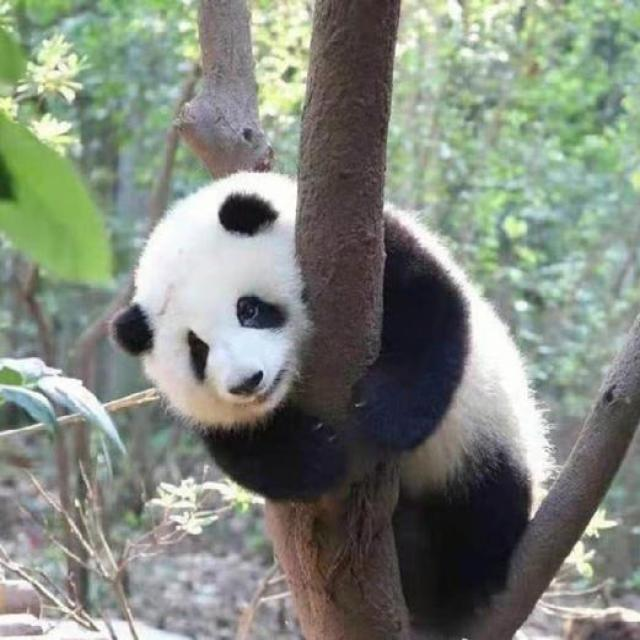panda: (106, 167, 563, 640)
